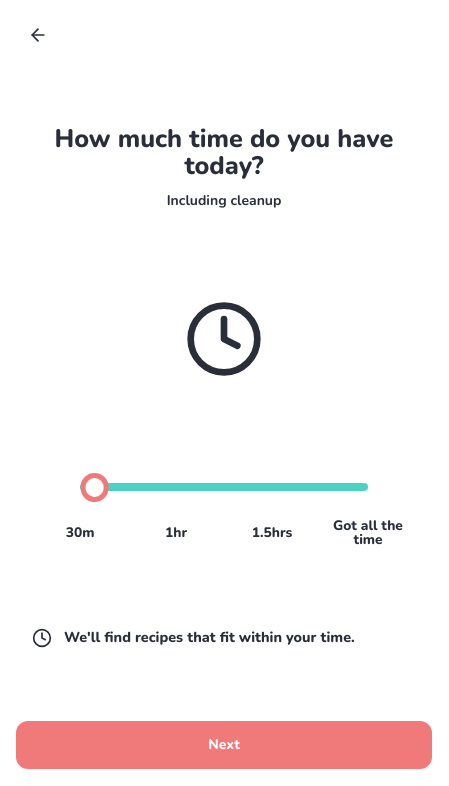
MealPlanning recipe generation locking › disables cuisine inputs while recipe generation is pending
Click the button "Next".
click(224, 745)  # box [16,721,432,769]
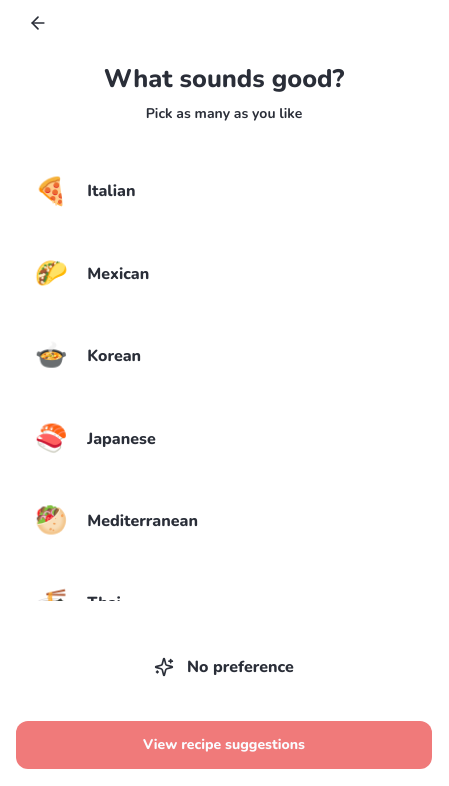
Now the heading "What sounds good?" is shown, box [104,61,344,96]
Click the button "View recipe suggestions".
click(224, 745)  # box [16,721,432,769]
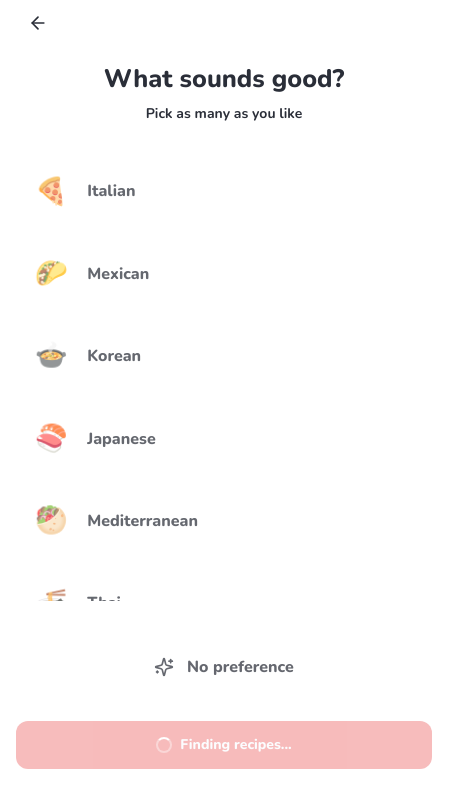
Now the button "🌮 Mexican" is disabled, box [16,239,430,309]
Now the button "🥙 Mediterranean" is disabled, box [16,486,430,556]
Now the button "No preference" is disabled, box [16,633,432,701]
